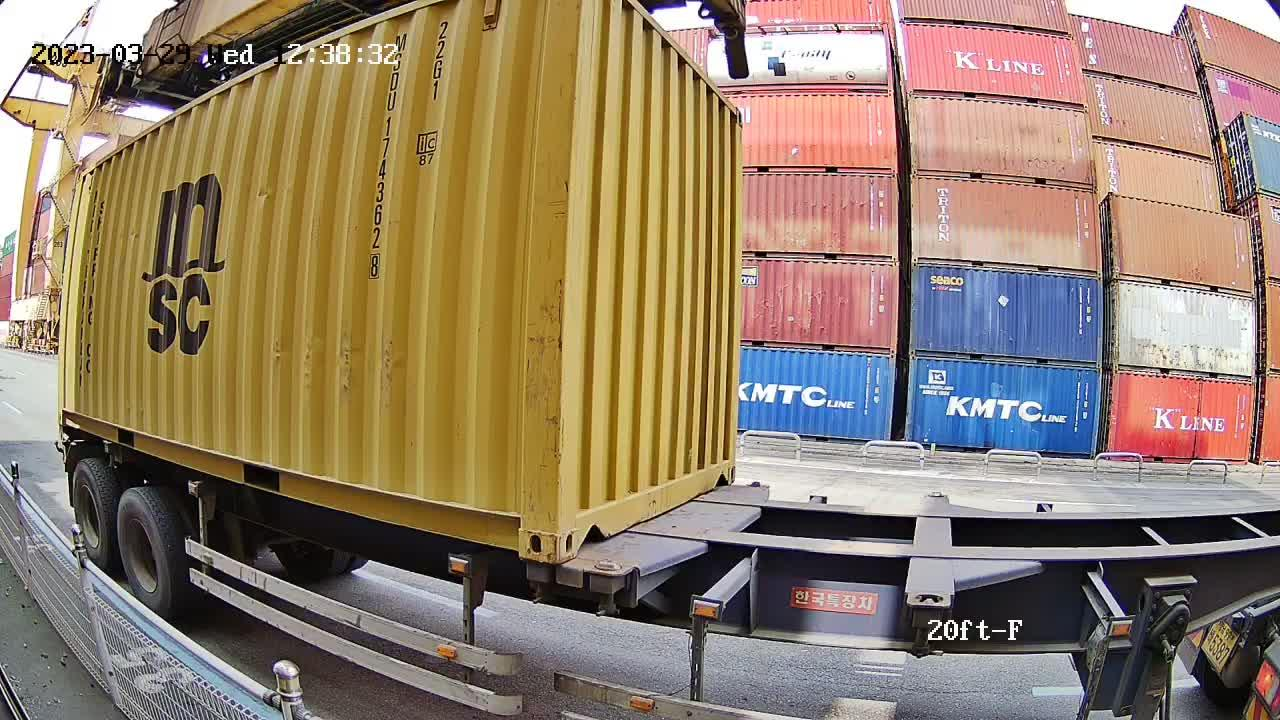Chassis: (592, 484, 766, 574)
Cone: (591, 560, 628, 620), (523, 558, 552, 607)
Hole_L: (557, 492, 604, 564)
Hole_R: (492, 489, 556, 565), (711, 447, 738, 491)
Tire: (118, 491, 173, 615), (72, 462, 111, 568)
